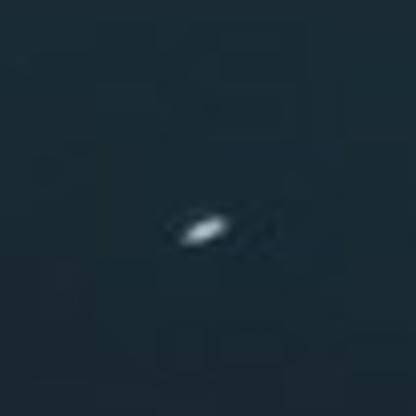ship: (167, 199, 240, 260)
